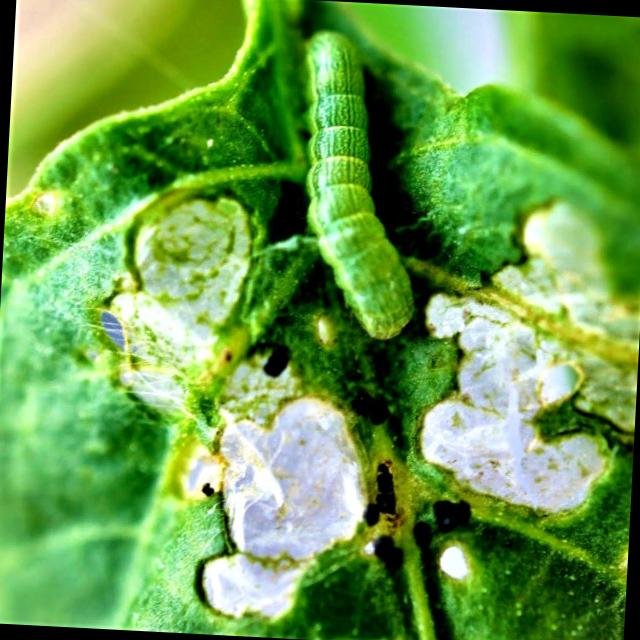Armyworm: (283, 8, 430, 343)
